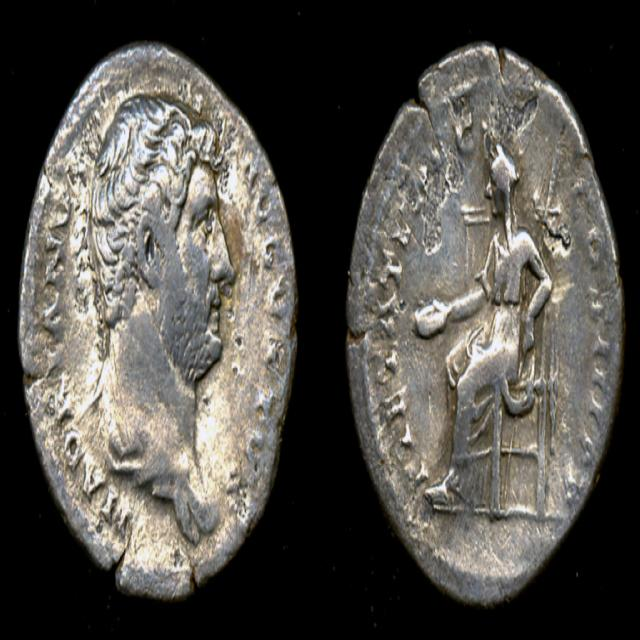Coin: (345, 44, 627, 601), (16, 45, 298, 601)
